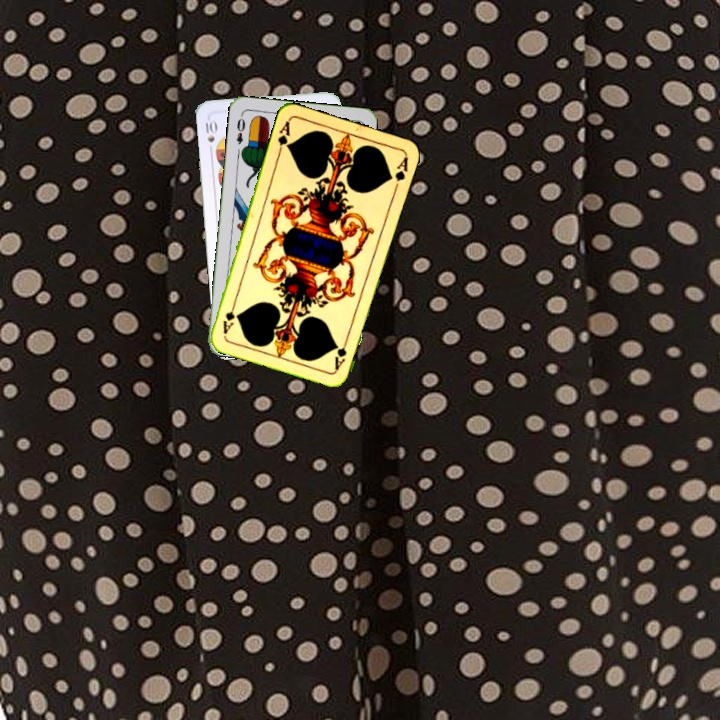EO: (232, 114, 248, 147)
GA: (331, 333, 351, 373), (274, 117, 292, 157)
S10: (201, 115, 218, 156)
